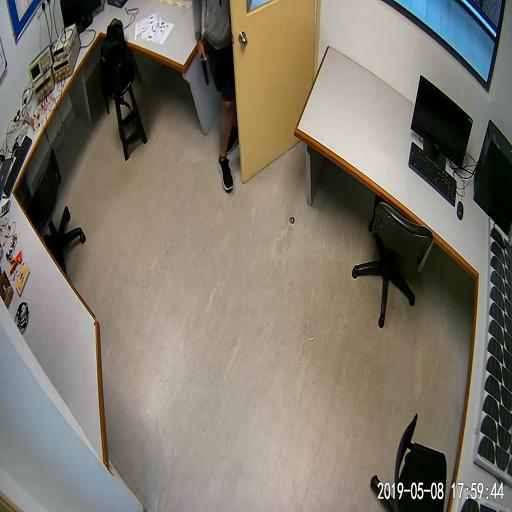pistol: (198, 44, 209, 87)
